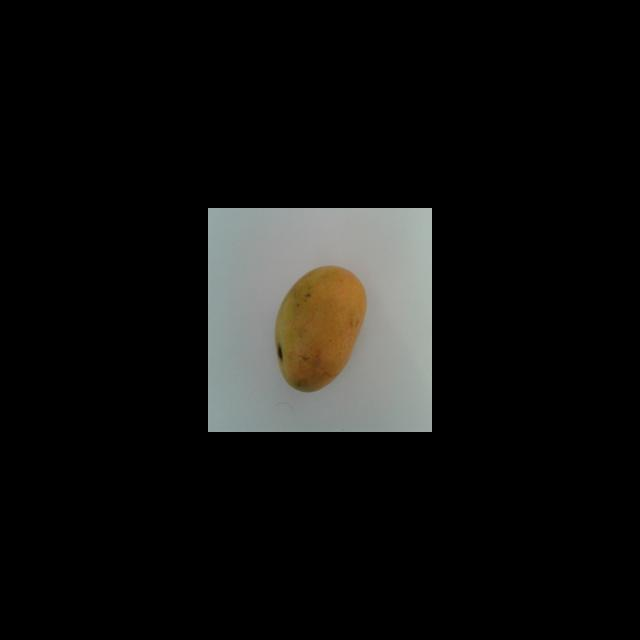Mango: (274, 264, 366, 392)
